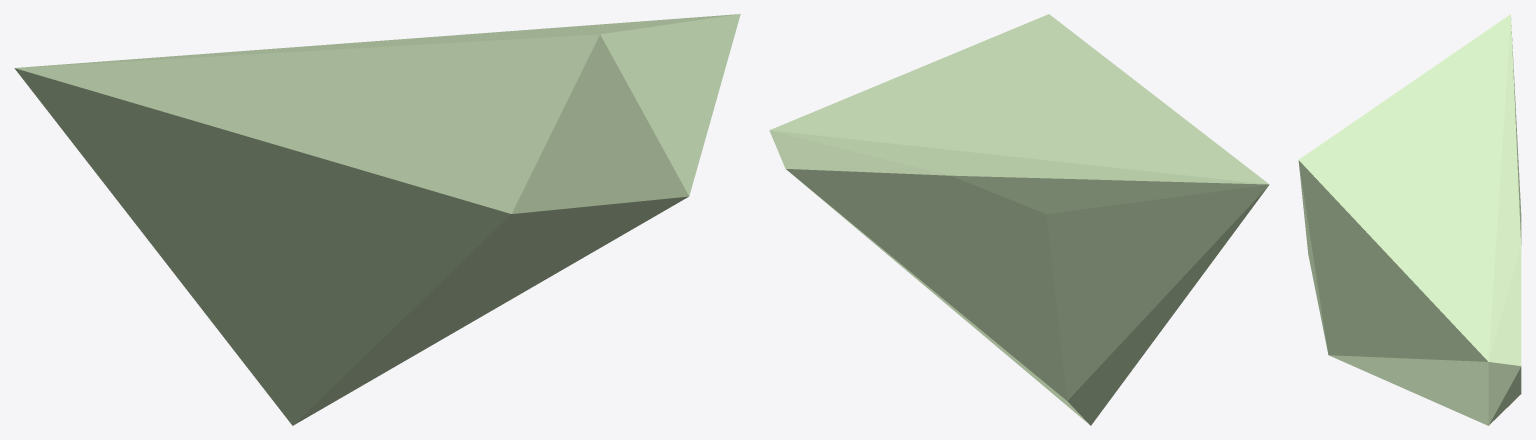
Rendered from kuka_robot_base_coll_17.dae.
3 views of the same model, side by side, from view 1: azimuth 30°, elevation 25°; view 2: azimuth 150°, elevation 25°; view 3: azimuth 270°, elevation 25° (orthographic). The views are drawn at different scales.
Visible parts, largest first — view 1: Node_0000015C5C912E10; view 2: Node_0000015C5C912E10; view 3: Node_0000015C5C912E10.
Boxes of the visible parts, <box> form: Node_0000015C5C912E10: <box>14,14,740,425</box>; Node_0000015C5C912E10: <box>769,14,1269,425</box>; Node_0000015C5C912E10: <box>1298,14,1521,425</box>.
Bounding box in the file's own units: 0.0383 × 0.0225 × 0.0136.
